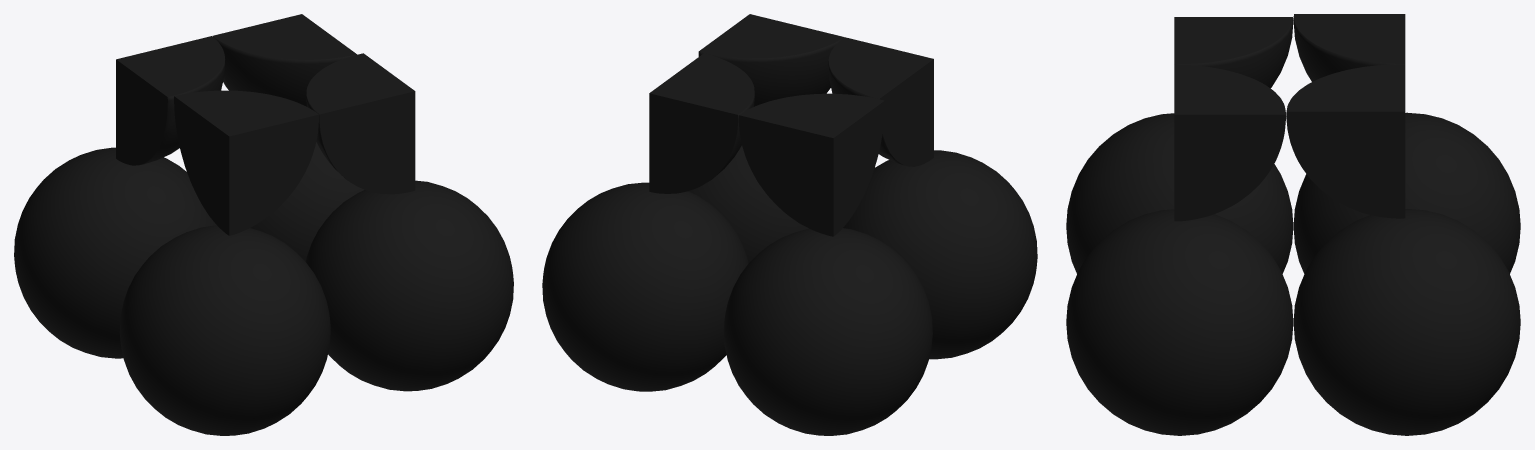
The model's file is solid_state_qn_011.glb.
3 renders of one model, left to right at view 1: azimuth 30°, elevation 25°; view 2: azimuth 150°, elevation 25°; view 3: azimuth 270°, elevation 25°, orthographic. The views are drawn at different scales.
Parts seen in each view (by area): view 1: Icosphere.077, Icosphere.076, Icosphere.074, Icosphere.073, Icosphere.072, Icosphere.071, Icosphere.070, Icosphere.075; view 2: Icosphere.074, Icosphere.075, Icosphere.077, Icosphere.071, Icosphere.070, Icosphere.073, Icosphere.072, Icosphere.076; view 3: Icosphere.075, Icosphere.076, Icosphere.070, Icosphere.074, Icosphere.072, Icosphere.077, Icosphere.073, Icosphere.071.
Boxes of the visible parts, x1=… form: Icosphere.077: x1=119, y1=225, x2=330, y2=435; Icosphere.076: x1=305, y1=180, x2=513, y2=391; Icosphere.074: x1=14, y1=147, x2=216, y2=358; Icosphere.073: x1=174, y1=90, x2=318, y2=235; Icosphere.072: x1=306, y1=53, x2=415, y2=194; Icosphere.071: x1=116, y1=36, x2=225, y2=165; Icosphere.070: x1=212, y1=14, x2=356, y2=106; Icosphere.075: x1=250, y1=142, x2=364, y2=261; Icosphere.074: x1=723, y1=228, x2=932, y2=435; Icosphere.075: x1=542, y1=182, x2=748, y2=391; Icosphere.077: x1=843, y1=150, x2=1037, y2=359; Icosphere.071: x1=738, y1=93, x2=884, y2=236; Icosphere.070: x1=649, y1=53, x2=754, y2=193; Icosphere.073: x1=828, y1=37, x2=933, y2=166; Icosphere.072: x1=698, y1=14, x2=844, y2=106; Icosphere.076: x1=688, y1=145, x2=808, y2=262; Icosphere.075: x1=1293, y1=209, x2=1520, y2=435; Icosphere.076: x1=1066, y1=209, x2=1293, y2=435; Icosphere.070: x1=1286, y1=64, x2=1405, y2=218; Icosphere.074: x1=1293, y1=112, x2=1520, y2=273; Icosphere.072: x1=1174, y1=64, x2=1285, y2=221; Icosphere.077: x1=1066, y1=113, x2=1293, y2=273; Icosphere.073: x1=1174, y1=17, x2=1293, y2=88; Icosphere.071: x1=1293, y1=14, x2=1405, y2=81.
Size of the model in its own units: 4 by 3.04 by 4.
1 material, 1 textured.
